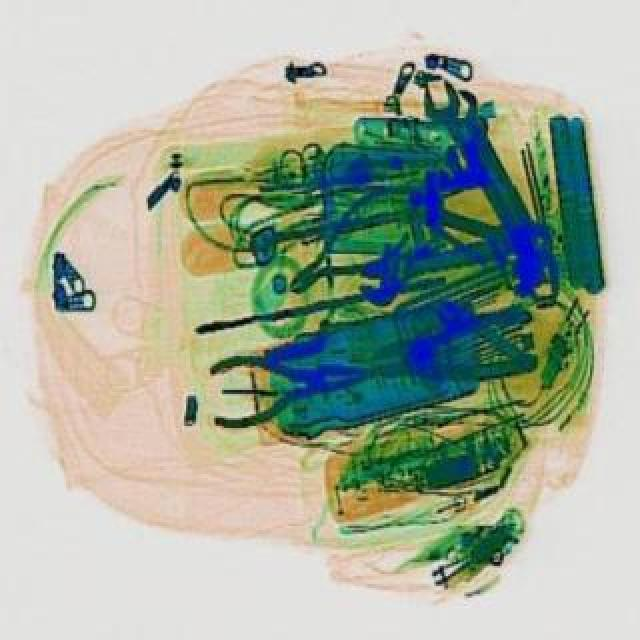scissors: (410, 70, 534, 258), (428, 80, 544, 240), (352, 224, 540, 306)
wrench: (266, 166, 442, 314), (362, 300, 540, 396), (200, 332, 374, 428)
